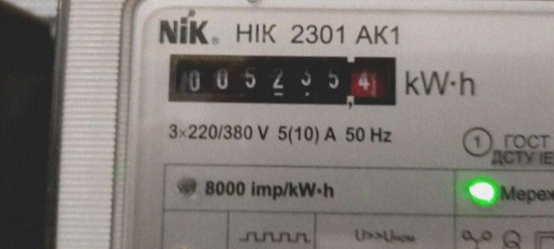0: (185, 67, 201, 92), (213, 66, 229, 90)
2: (268, 64, 285, 90)
3: (295, 62, 313, 87)
4: (353, 64, 372, 94)
5: (323, 62, 340, 90), (241, 64, 256, 89)
screen: (153, 38, 406, 119)
